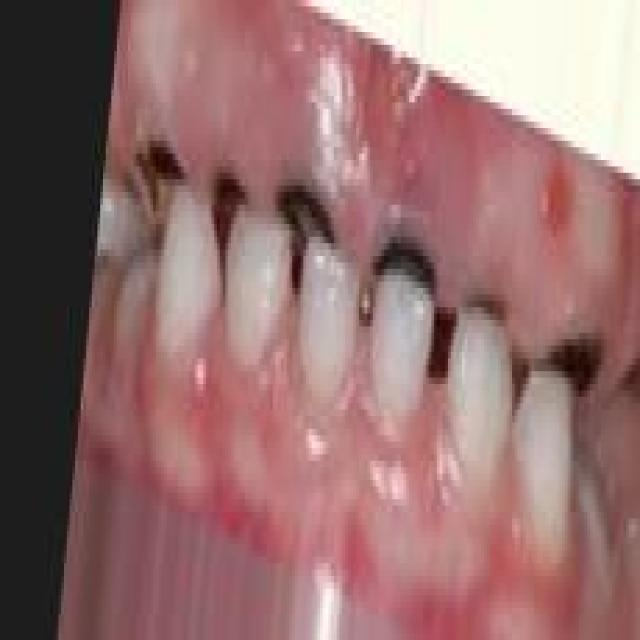caries: (538, 299, 615, 415), (367, 209, 440, 323), (269, 156, 337, 278), (456, 262, 521, 370), (131, 123, 188, 230), (204, 149, 258, 255)
